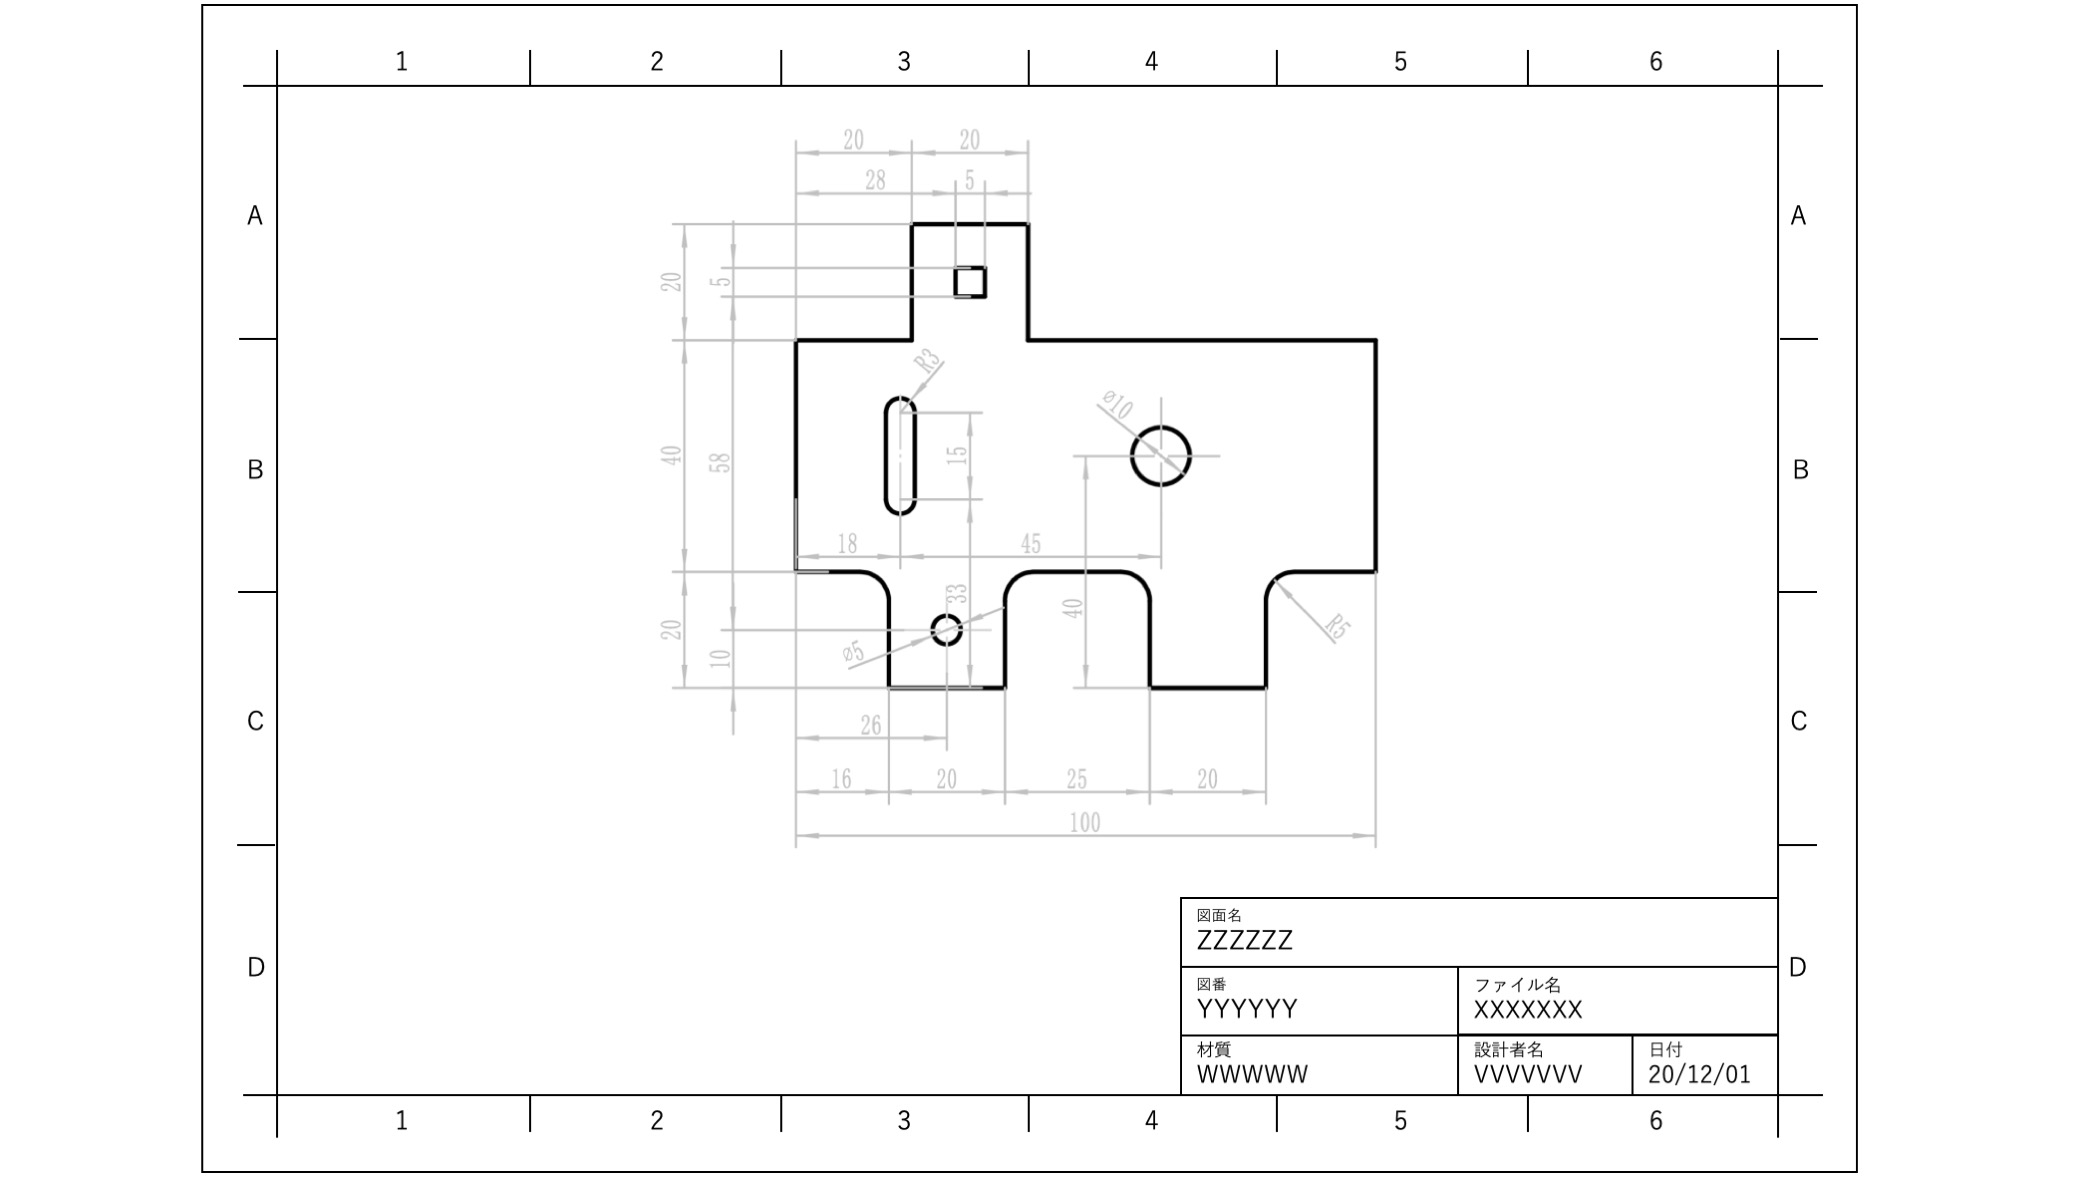circle: (1129, 412, 1199, 495), (927, 598, 972, 650)
rectangle: (950, 252, 991, 313)
round_rectangle: (877, 378, 925, 523)
